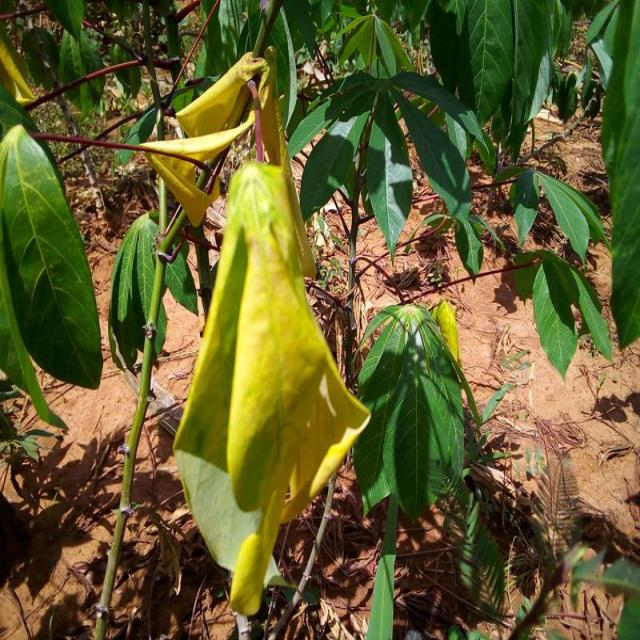cassava leaf: (170, 158, 372, 615), (351, 300, 466, 522)
